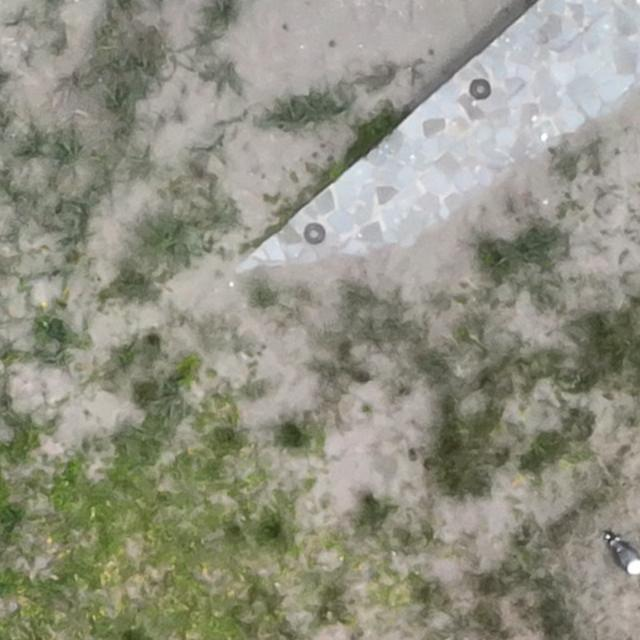umineko: (613, 542, 639, 575)
